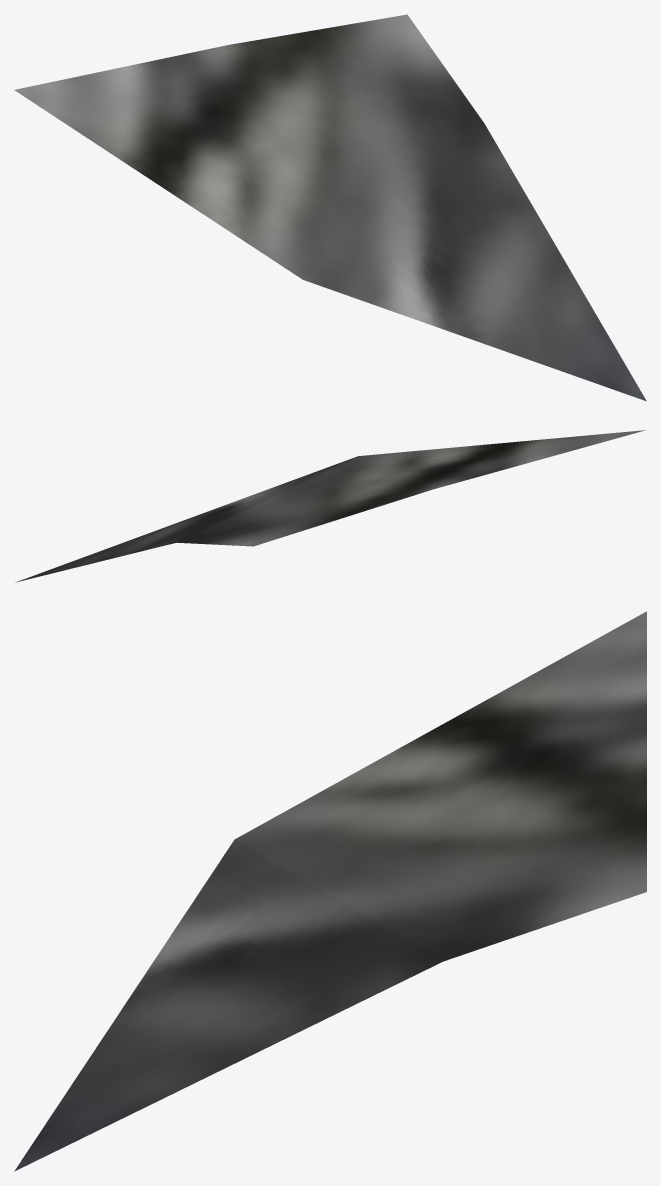
3 renders of one model, top to bottom at view 1: azimuth 30°, elevation 25°; view 2: azimuth 210°, elevation 25°; view 3: azimuth 270°, elevation 25°, orthographic. The views are drawn at different scales.
Bounding box in the file's own units: 0.3448 × 0.1945 × 0.3636.
Materials: 1 (1 with a texture image).
